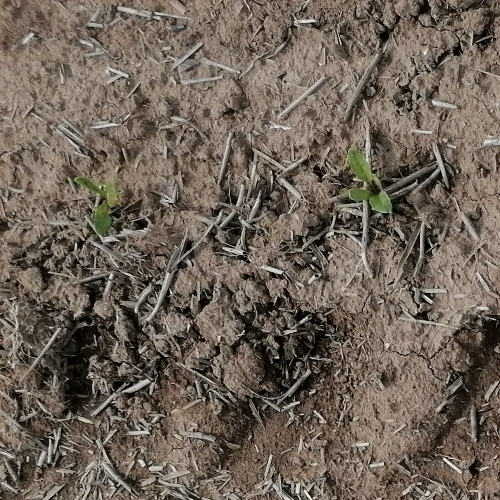beet: (346, 147, 392, 214), (74, 175, 118, 235)
